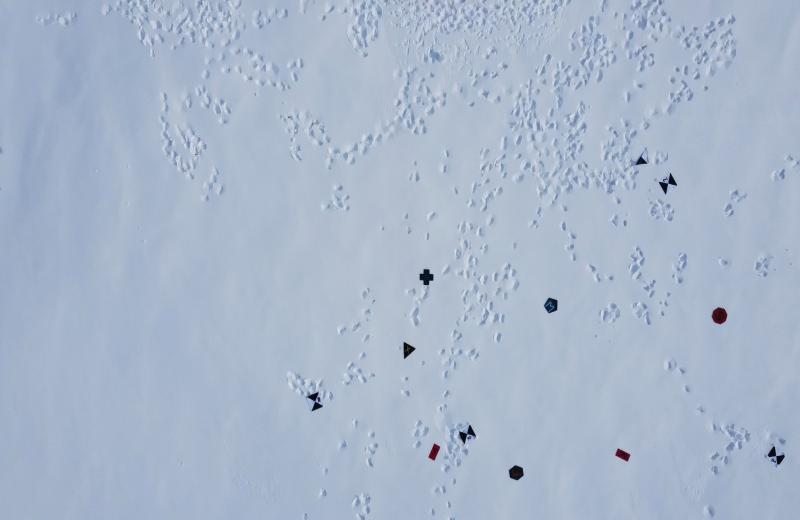Cross: (418, 268, 436, 288)
Hexagon: (508, 464, 526, 482)
Octagon: (711, 305, 729, 326)
Pentagon: (543, 296, 559, 315)
Rectangle: (614, 446, 633, 467), (427, 442, 444, 463)
Triangle: (401, 340, 417, 361)
